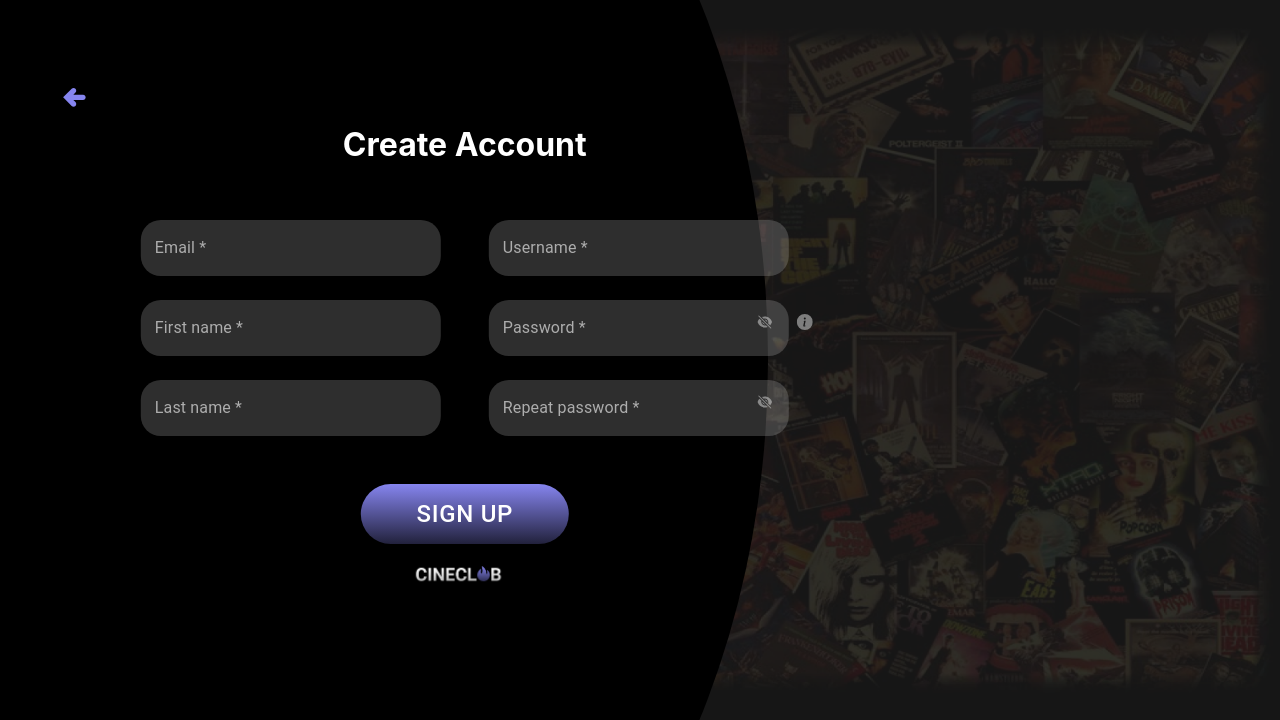
Test: CreateAccount › displays error messages for invalid form inputs
This screenshot has width=1280, height=720.
Click the button "SIGN UP" at (465, 514), box [360,484,569,544]
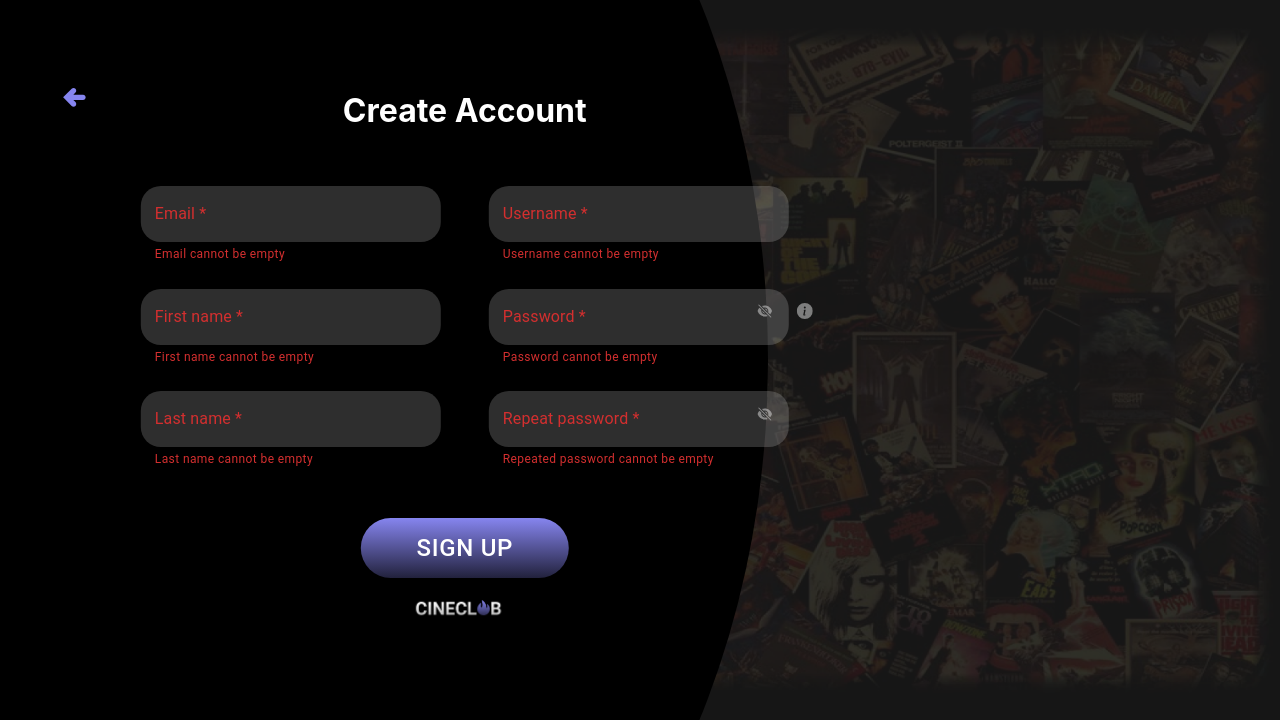
expect the text "Email cannot be empty" is shown: met, box [155,247,285,261]
expect the text "First name cannot be empty" is shown: met, box [155,350,314,364]
expect the text "Last name cannot be empty" is shown: met, box [155,452,313,466]
